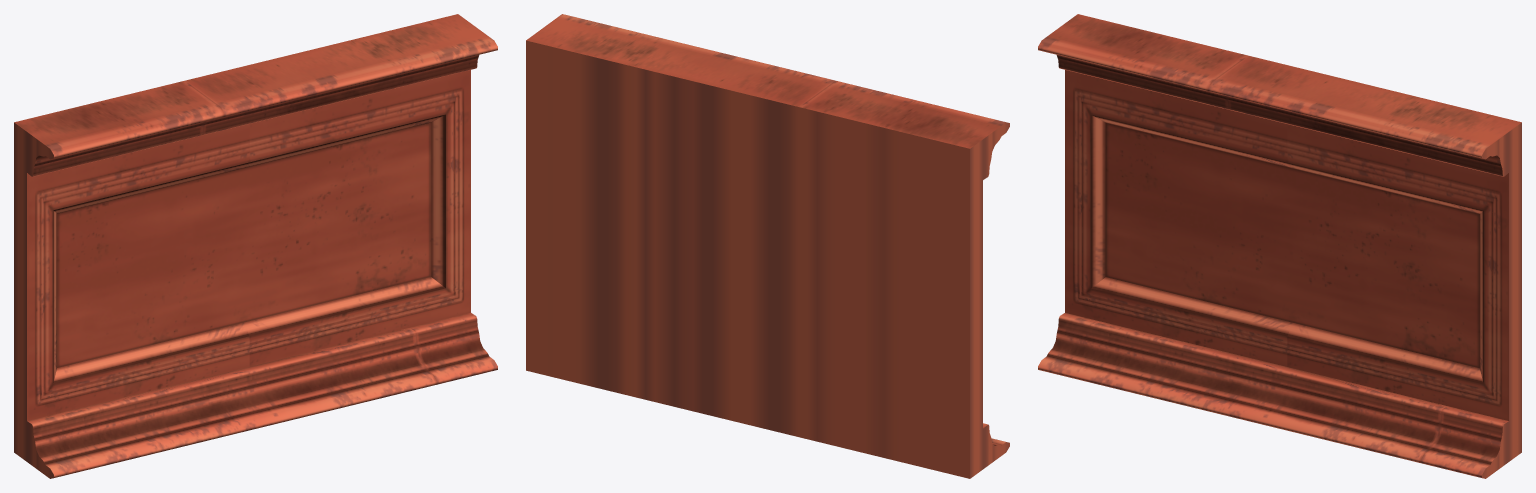
Rendered from MSH_LowWall_02.FBX.
3 views of the same model, side by side, from view 1: azimuth 30°, elevation 25°; view 2: azimuth 150°, elevation 25°; view 3: azimuth 330°, elevation 25° (orthographic).
Parts seen in each view (by area): view 1: MSH_LowWall_02; view 2: MSH_LowWall_02; view 3: MSH_LowWall_02.
Boxes of the visible parts, bbox=[...] form: MSH_LowWall_02: bbox=[14, 14, 497, 478]; MSH_LowWall_02: bbox=[526, 14, 1009, 478]; MSH_LowWall_02: bbox=[1038, 14, 1521, 478].
Size of what is drawn, in the model's own units: 180 by 28 by 128.
